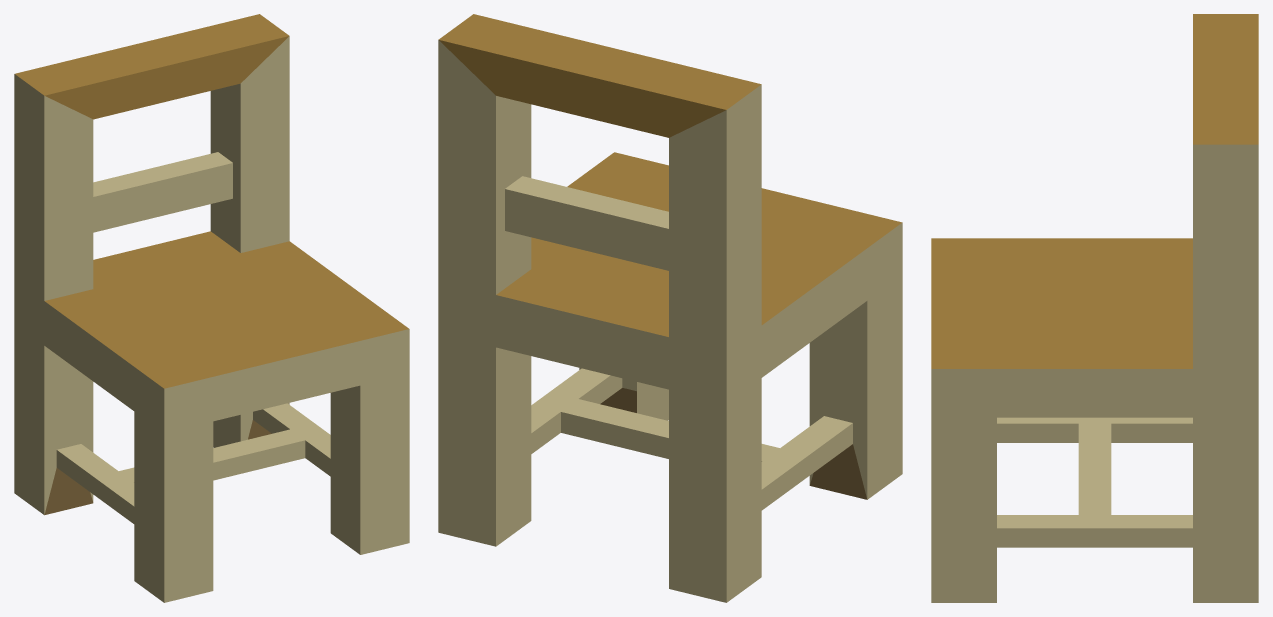
The model's file is chair.glb.
3 views of the same model, side by side, from view 1: azimuth 30°, elevation 25°; view 2: azimuth 150°, elevation 25°; view 3: azimuth 270°, elevation 25° (orthographic). The views are drawn at different scales.
Parts seen in each view (by area): view 1: chair; view 2: chair; view 3: chair.
Boxes of the visible parts, x1,y1,x2,y2 form: chair: (14,14,409,602); chair: (438,14,902,602); chair: (931,14,1258,602).
Bounding box in the file's own units: 0.52 × 0.85 × 0.55.
